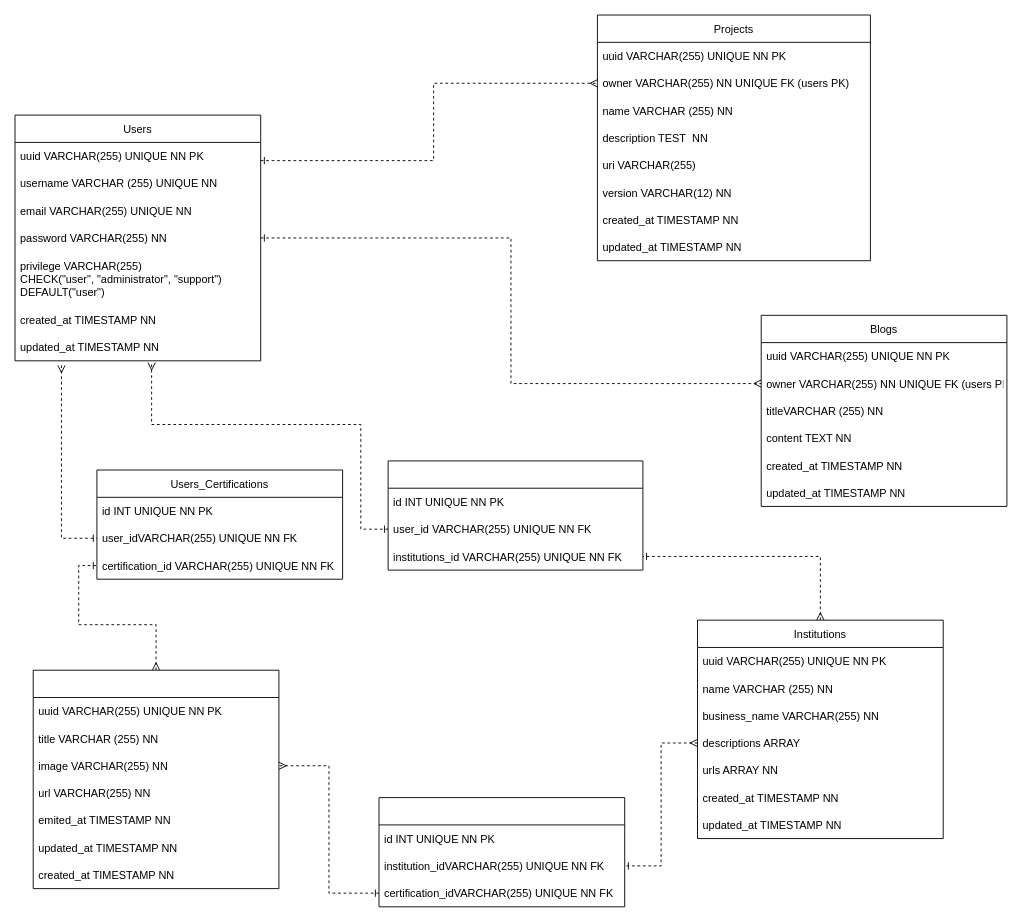
The diagram is 1028 pixels wide and 922 high, and some of its shapes have lost their labels. The shapes that lost their labels are listed below. From the top down, each one's box as (x1, y1, x2, y2) in pixels, then its label:
(387, 460, 643, 570): Users_Institutions
(32, 669, 279, 889): Certifications
(378, 797, 625, 907): Certifications_Institutions
